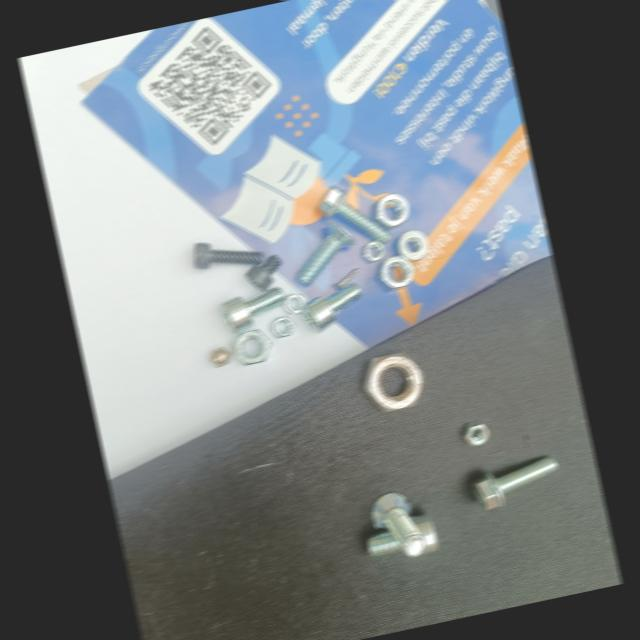bolt: (471, 456, 557, 509), (368, 492, 437, 556), (318, 185, 390, 244), (296, 220, 356, 285), (220, 286, 287, 332), (367, 513, 438, 556), (301, 282, 362, 331), (194, 242, 264, 268), (245, 254, 281, 291), (332, 267, 359, 291)
nuts: (363, 352, 424, 411), (376, 254, 414, 289), (234, 329, 271, 363), (372, 193, 409, 227), (397, 229, 428, 260), (461, 420, 489, 446), (361, 240, 384, 262), (284, 291, 307, 313), (271, 316, 294, 337), (210, 347, 230, 366)
